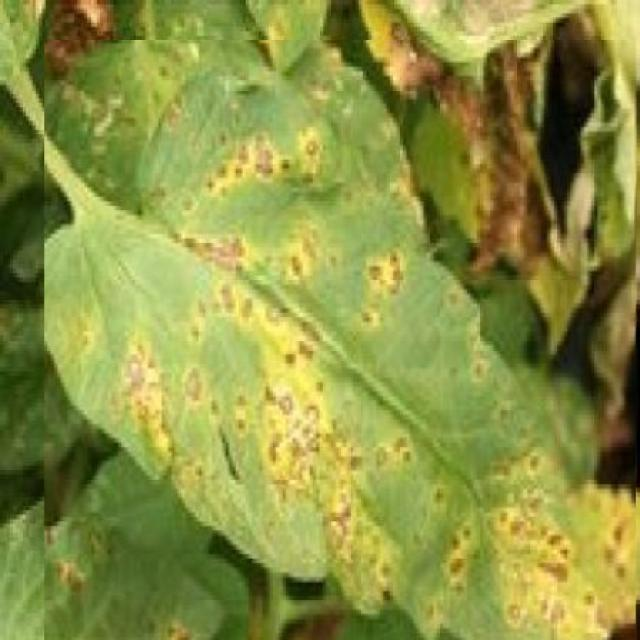Septoria: (45, 40, 636, 640)
